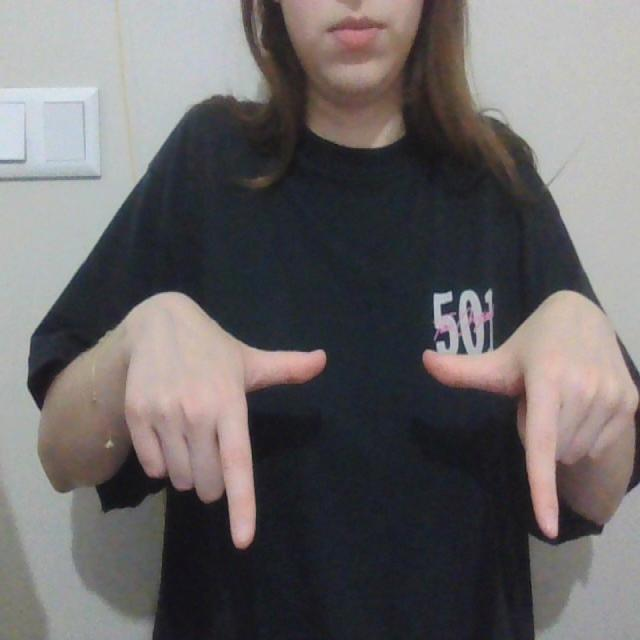Nerede: (188, 340, 576, 562)
